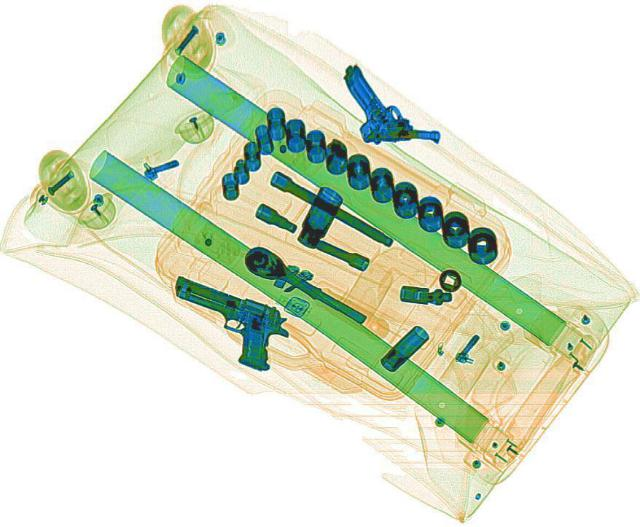Gun: (144, 271, 302, 371), (343, 62, 439, 141)
